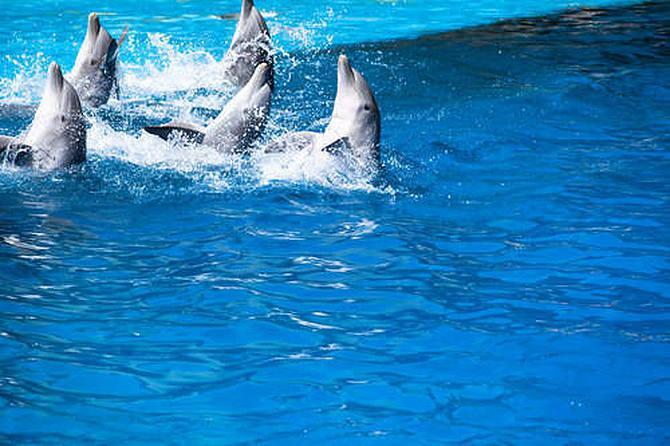fish: (278, 48, 396, 187), (148, 61, 277, 181), (3, 60, 92, 175), (62, 6, 128, 109)
